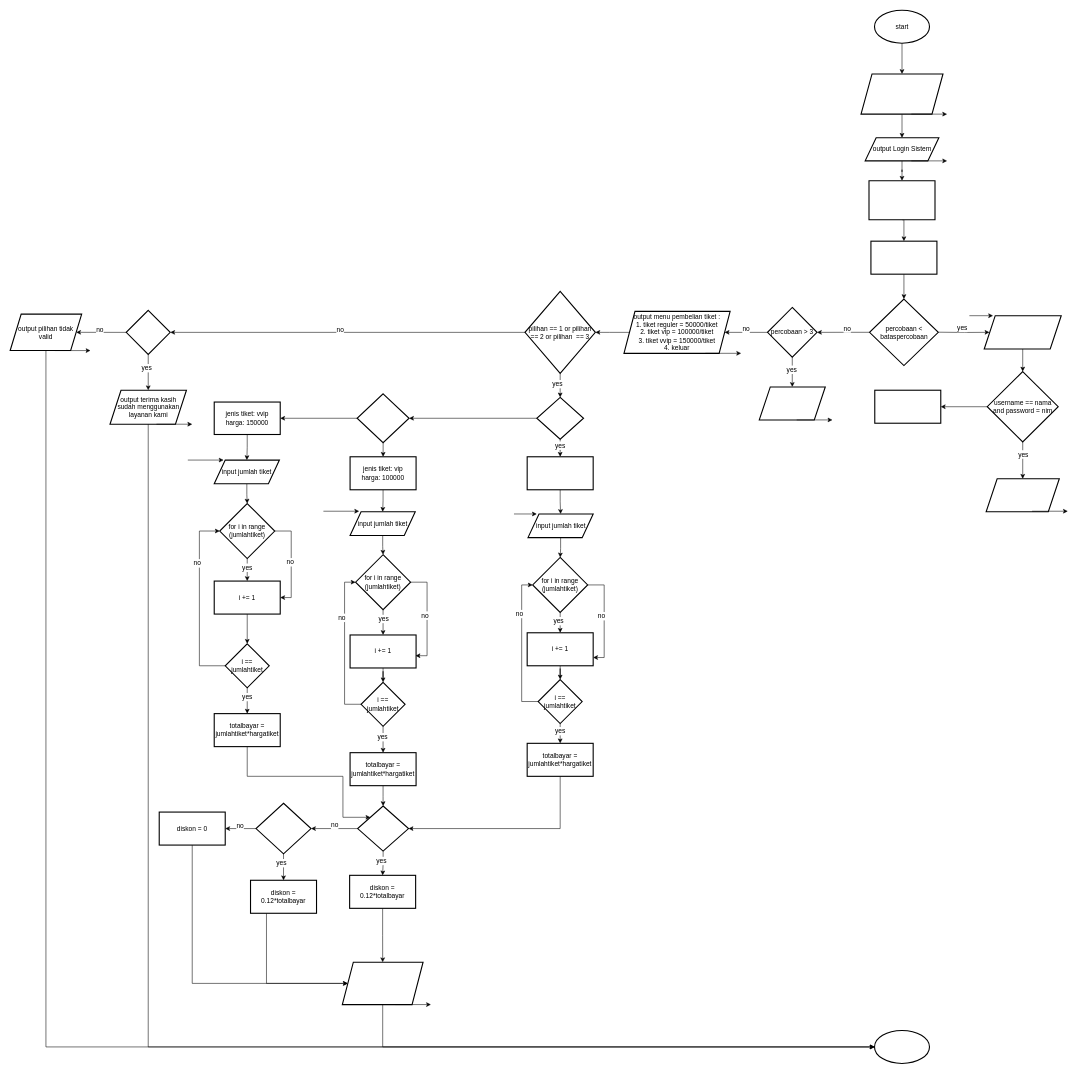
Some shapes in this 1082 by 1073 pixel diagram are drawn without their labels. The shapes that lost their labels are listed below. From the top down, each one's centre as x and y in pixels, then its label:
At point 901,93: "output Bioskop XXO Sistem pembelian tiket online".
At point 901,200: "nama = Annisa Nur Raidah nim = 2509106078".
At point 903,257: "bataspercobaan = 3 percobaan = 0".
At point 147,332: "pilihan == 4".
At point 1022,332: "input username dan password".
At point 382,418: "pilihan == 2".
At point 560,418: "pilihan ==1".
At point 792,403: "output login gagal".
At point 907,406: "percobaan = percobaan + 1".
At point 559,473: "jenis tiket: reguler harga: 50000".
At point 1022,495: "output berhasil login".
At point 283,828: "totalbayar >= 200000".
At point 383,828: "totalbayar >= 300000".
At point 382,983: "output totalbayar = totalbayar - diskon".
At point 902,1047: "end".
